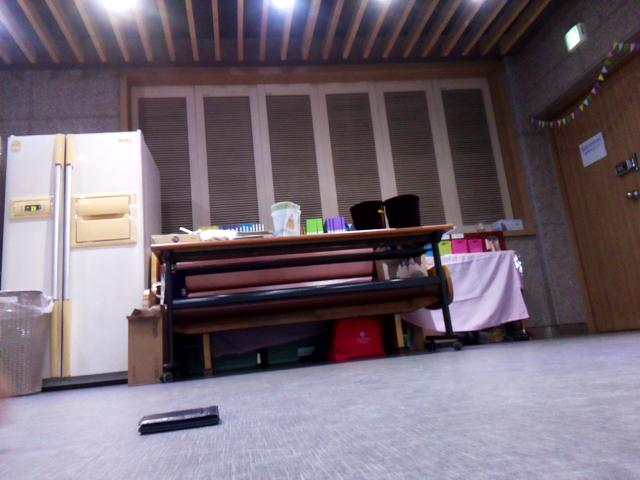wallet: (135, 401, 221, 437)
